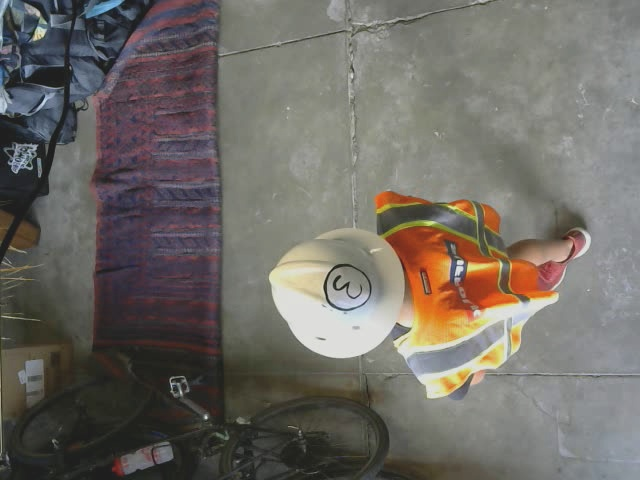three: (323, 263, 371, 310)
